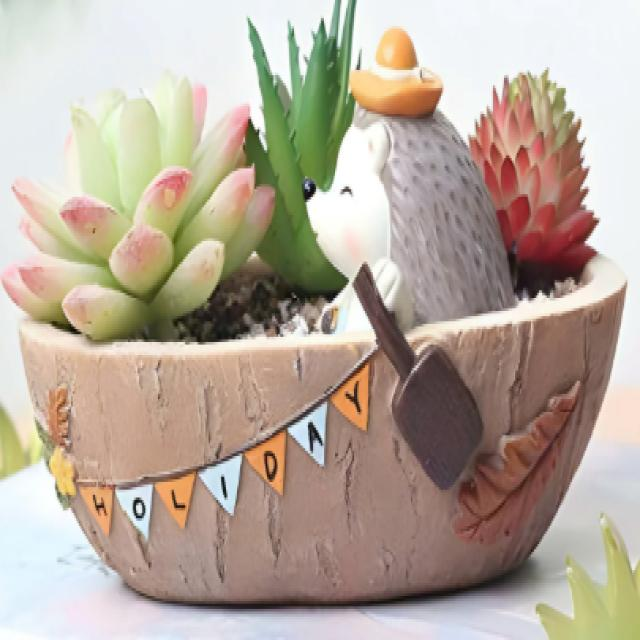Plant Pot: (10, 283, 640, 621)
